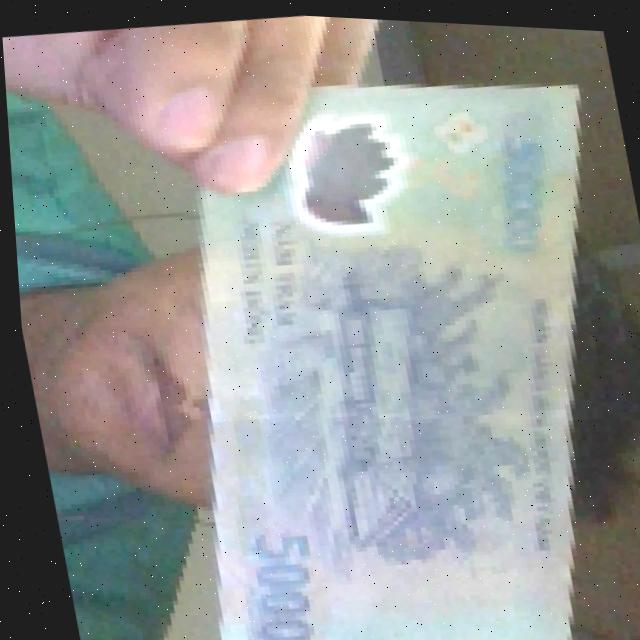500 000 VND: (92, 33, 640, 640)
